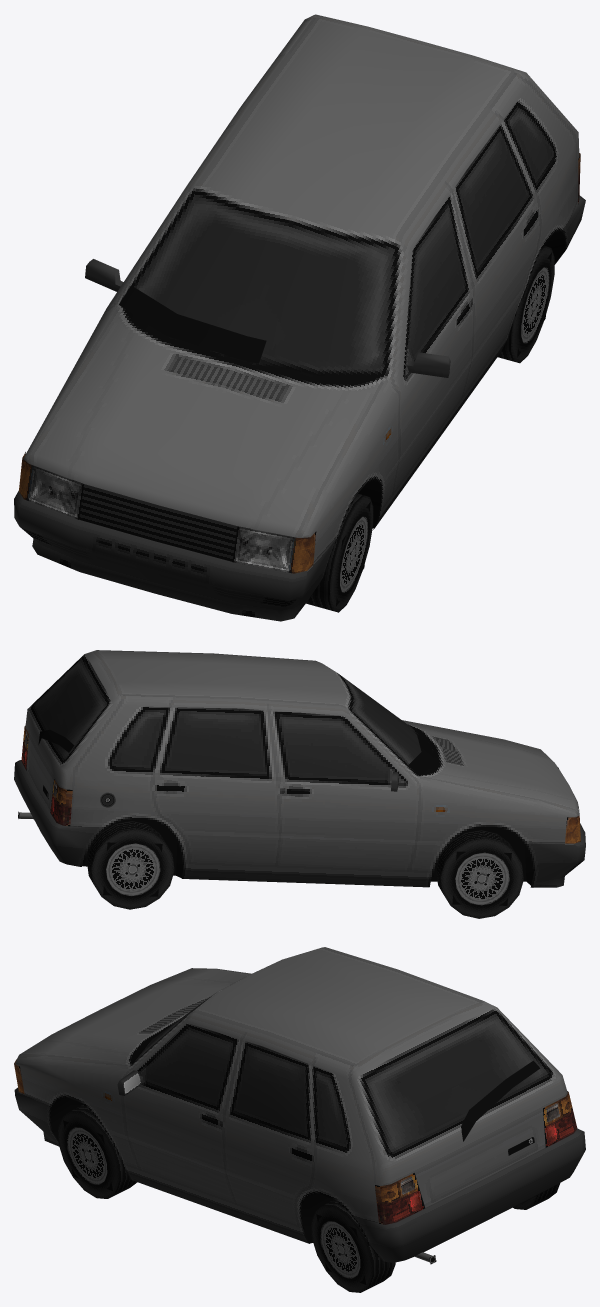
Rendered from psx_fiat_uno_5-door.glb.
3 renders of one model, top to bottom at view 1: azimuth 30°, elevation 25°; view 2: azimuth 150°, elevation 25°; view 3: azimuth 270°, elevation 25°, orthographic. The views are drawn at different scales.
Parts seen in each view (by area): view 1: Body_4, Lights_16, Wheel_FL_10, Wheel_RL_13, Bottom_7; view 2: Body_4, Wheel_RR_22, Wheel_FR_19, Lights_16, Bottom_7; view 3: Body_4, Lights_16, Wheel_RL_13, Wheel_FL_10, Bottom_7.
Part boxes in pixels (left/top/right/bottom): Body_4: left=14, top=14, right=585, bottom=621; Lights_16: left=19, top=153, right=580, bottom=573; Wheel_FL_10: left=306, top=494, right=373, bottom=612; Wheel_RL_13: left=498, top=246, right=554, bottom=363; Bottom_7: left=358, top=230, right=565, bottom=528; Body_4: left=14, top=650, right=585, bottom=887; Wheel_RR_22: left=86, top=821, right=174, bottom=909; Wheel_FR_19: left=436, top=830, right=523, bottom=918; Lights_16: left=18, top=725, right=580, bottom=843; Bottom_7: left=82, top=819, right=533, bottom=885; Body_4: left=14, top=947, right=585, bottom=1262; Lights_16: left=14, top=1059, right=577, bottom=1264; Wheel_RL_13: left=311, top=1199, right=395, bottom=1292; Wheel_FL_10: left=58, top=1104, right=137, bottom=1198; Bottom_7: left=50, top=1097, right=560, bottom=1259.
Bounding box in the file's own units: 7.25 × 3.56 × 6.6.
Materials: 4 (3 with a texture image).
